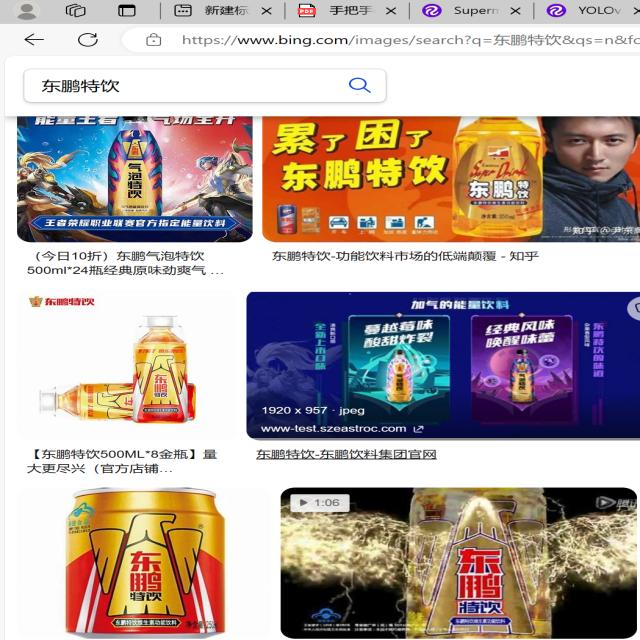dongpeng_special: (90, 514, 200, 618), (137, 356, 187, 406), (98, 385, 134, 419)
